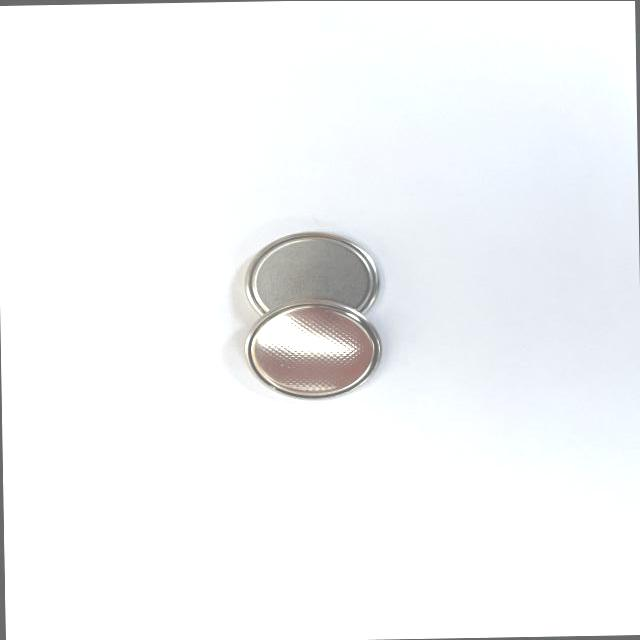COIN: (244, 300, 382, 402), (242, 230, 381, 319)
